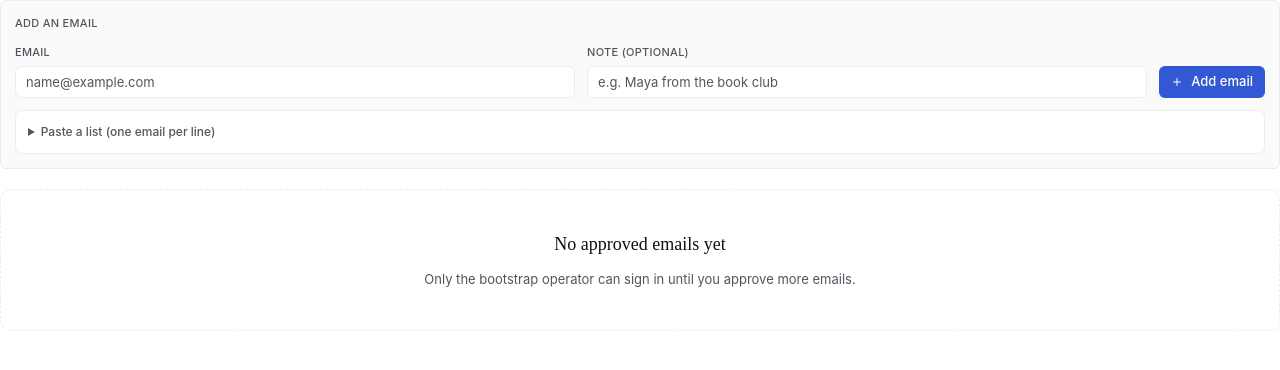
Test: ApprovedEmailsTab single-row add › rejects an invalid email via the Zod resolver without POSTing
This screenshot has width=1280, height=370.
In the field labelled "Email": (295, 82) [15,66,575,98], type "no-domain"
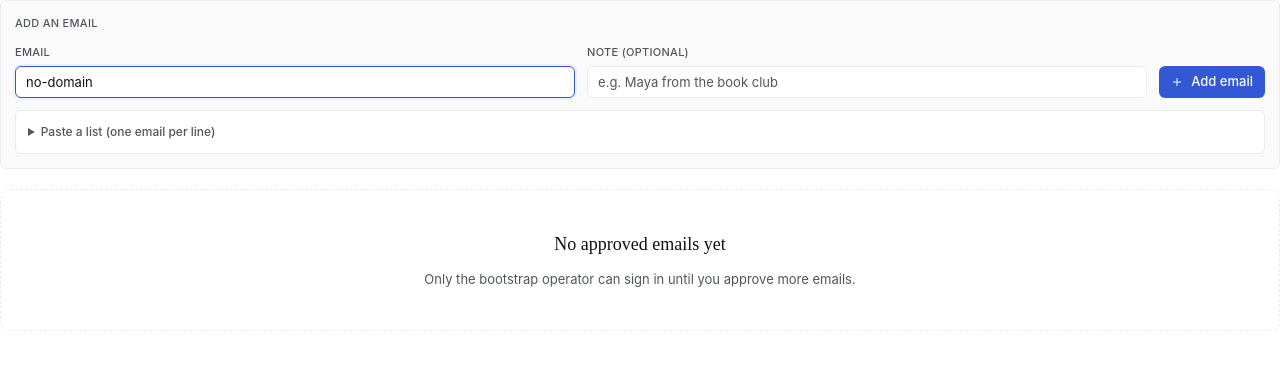
Click the button "Add email": (1212, 82) [1159,66,1265,98]
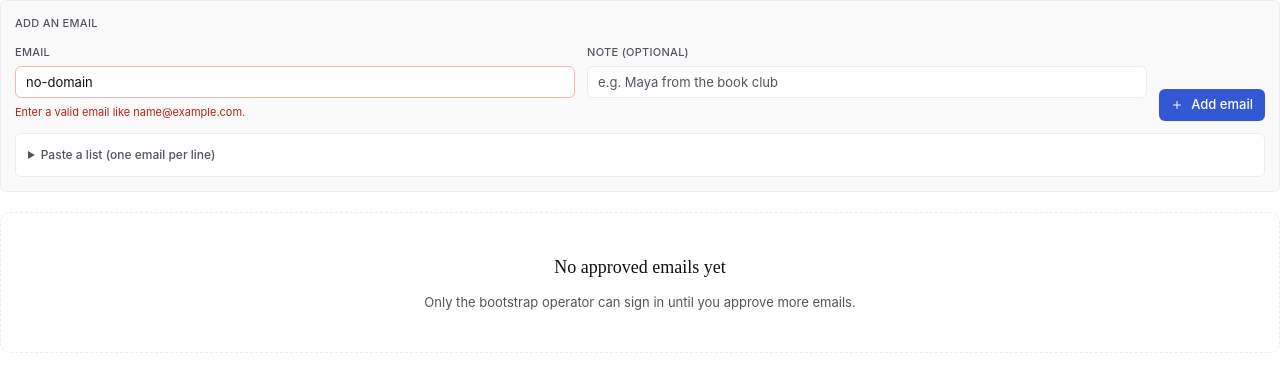
Expected: the text "Enter a valid email like name@example.com." is shown, [15,105,245,119]
